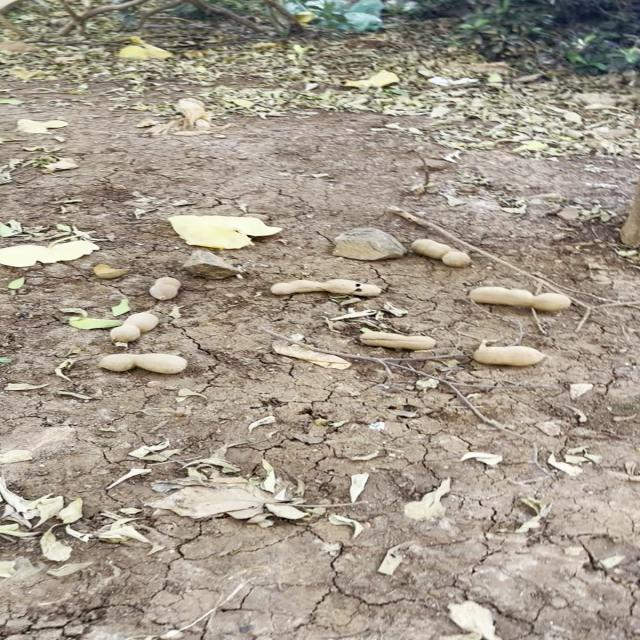tamarind: (456, 282, 572, 308), (253, 279, 391, 299), (92, 350, 194, 370), (409, 236, 471, 266), (470, 342, 554, 364), (343, 330, 441, 348), (110, 312, 158, 340), (149, 278, 176, 299)
